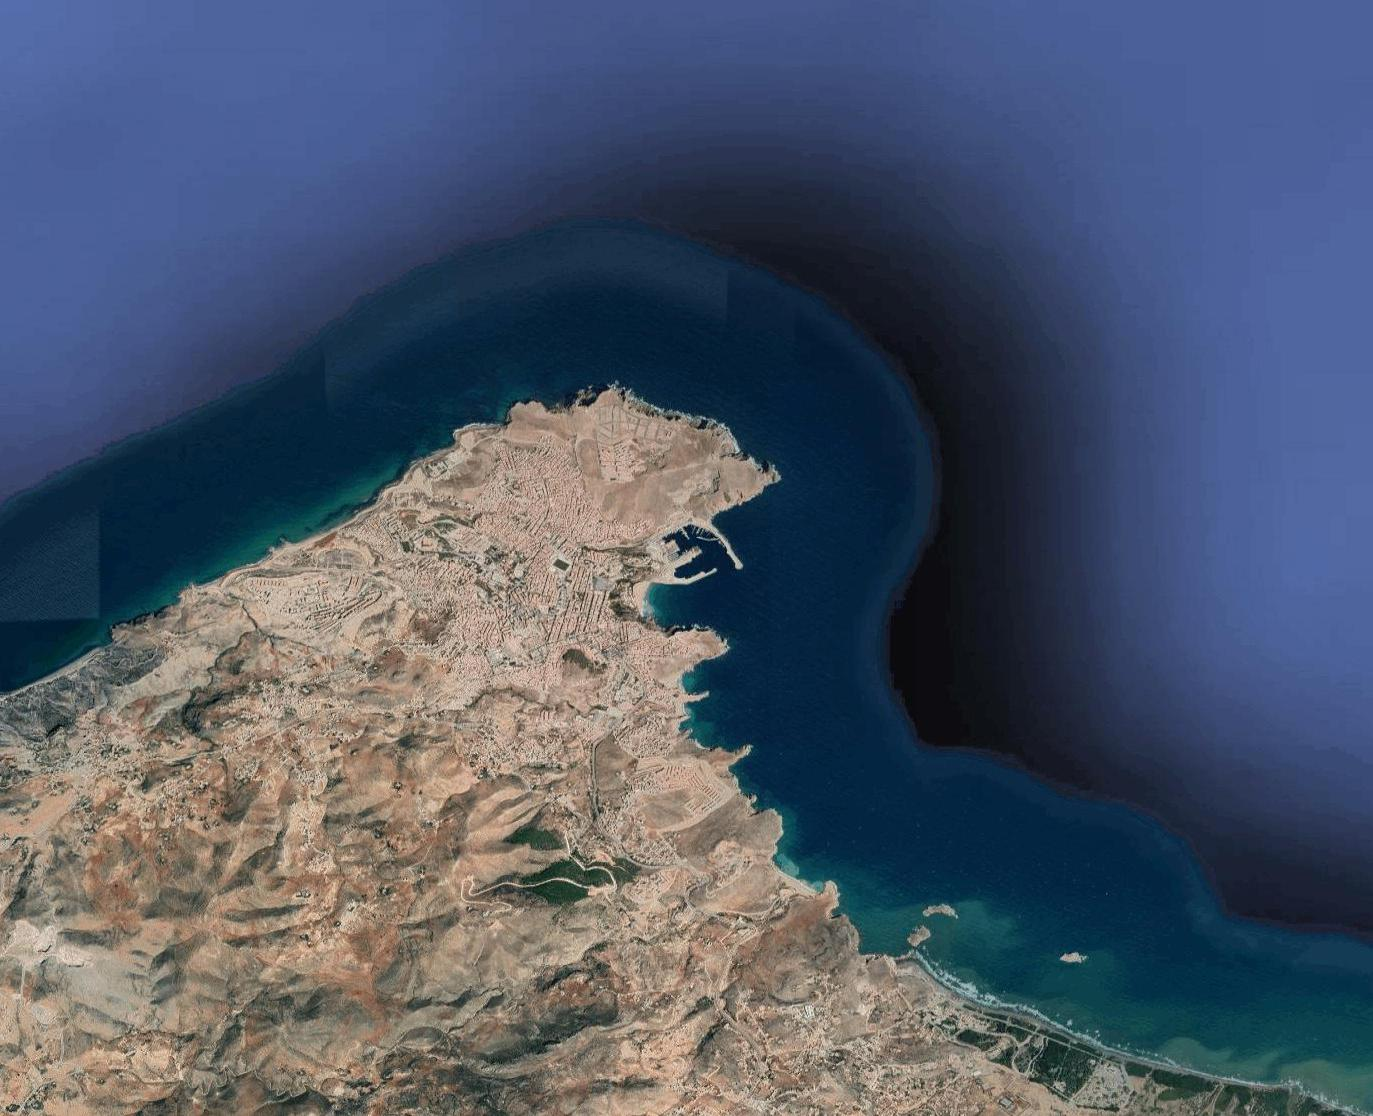harbor: (653, 519, 739, 584)
